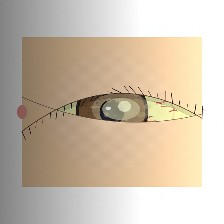corneal_ulcer: (90, 85, 152, 134)
